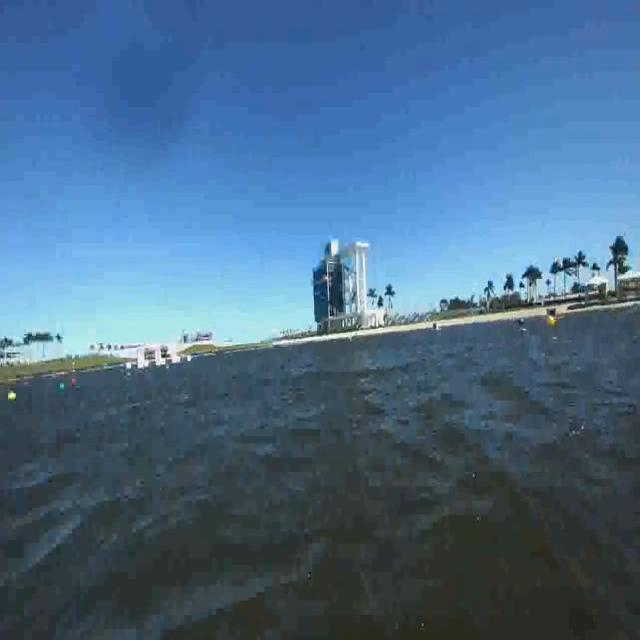yellow-buoy: (546, 314, 555, 329), (8, 392, 18, 401)
